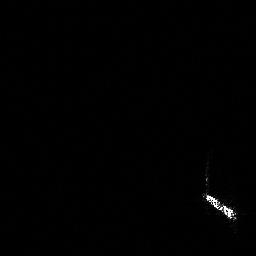ship: (198, 188, 242, 224)
